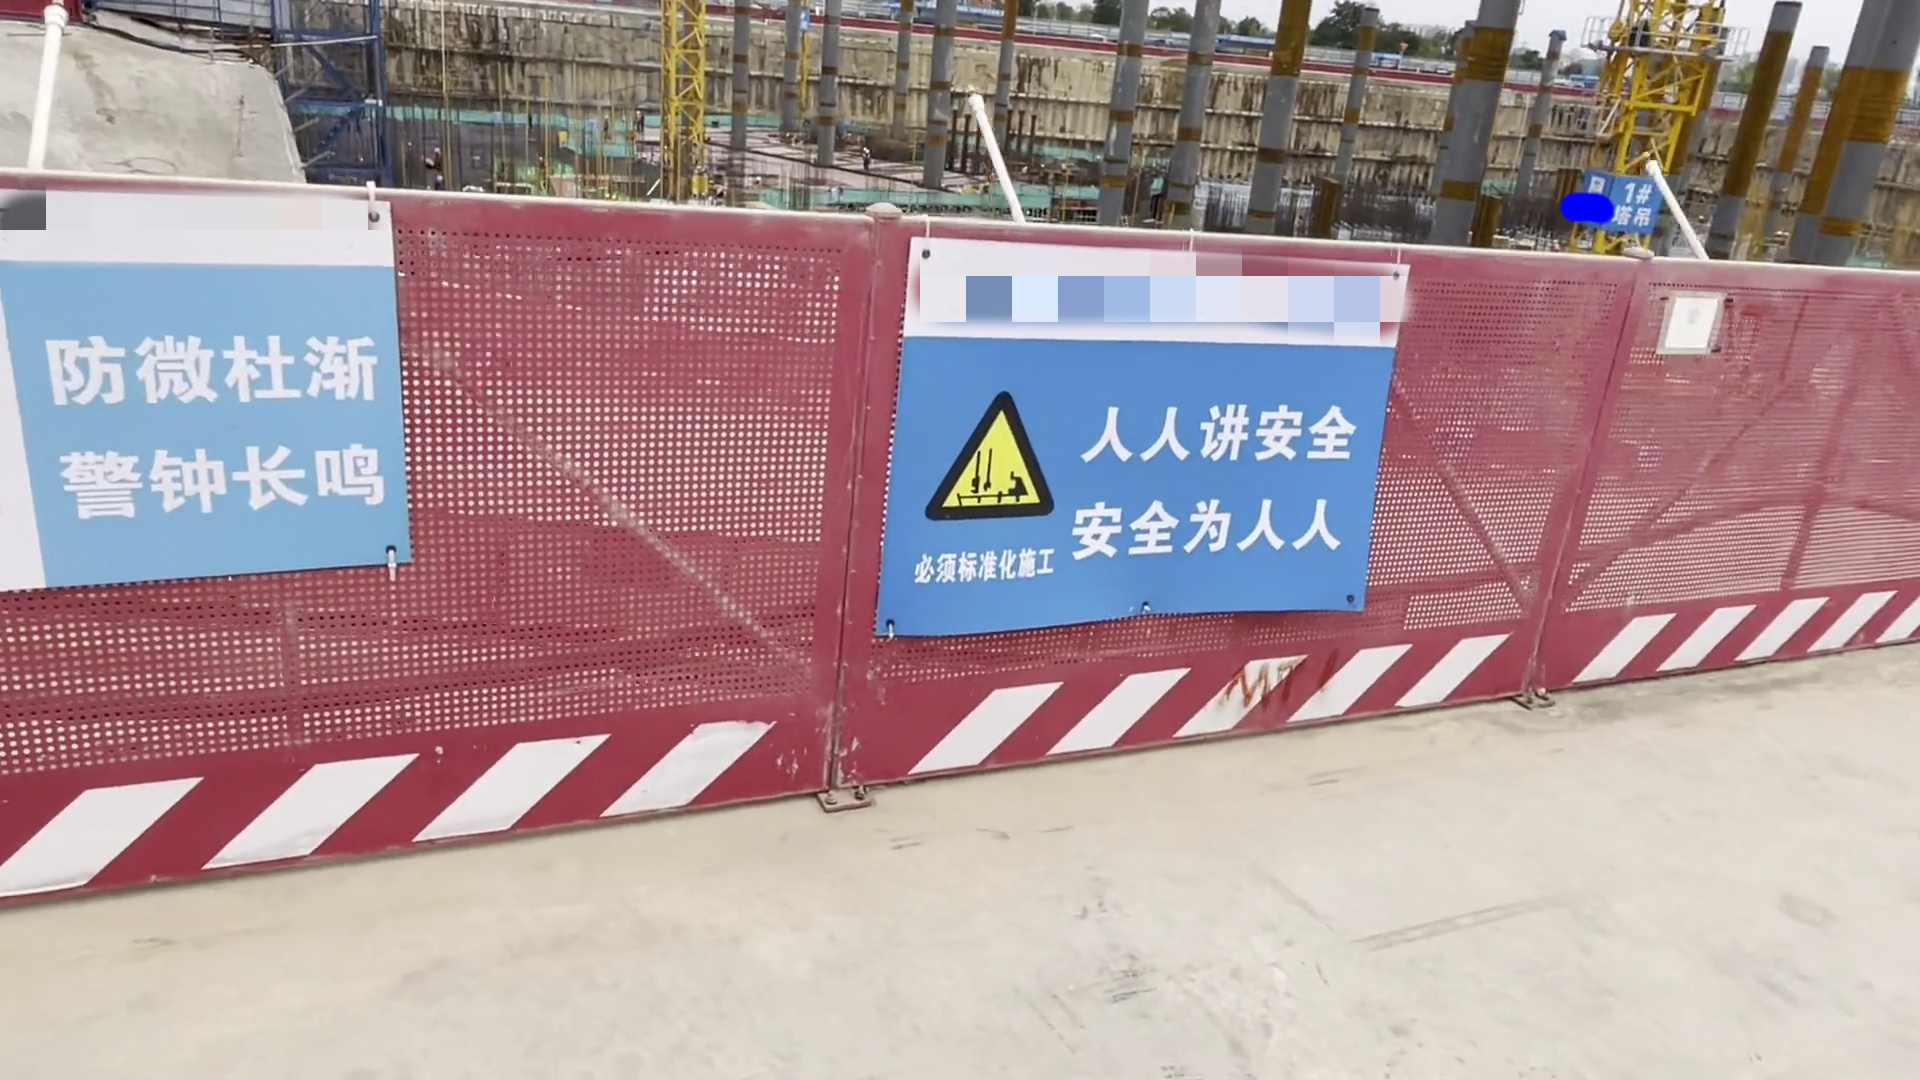fence: (7, 174, 849, 952), (861, 207, 1564, 787), (1549, 245, 1920, 688)
slogan: (905, 352, 1374, 613), (30, 268, 401, 539)
